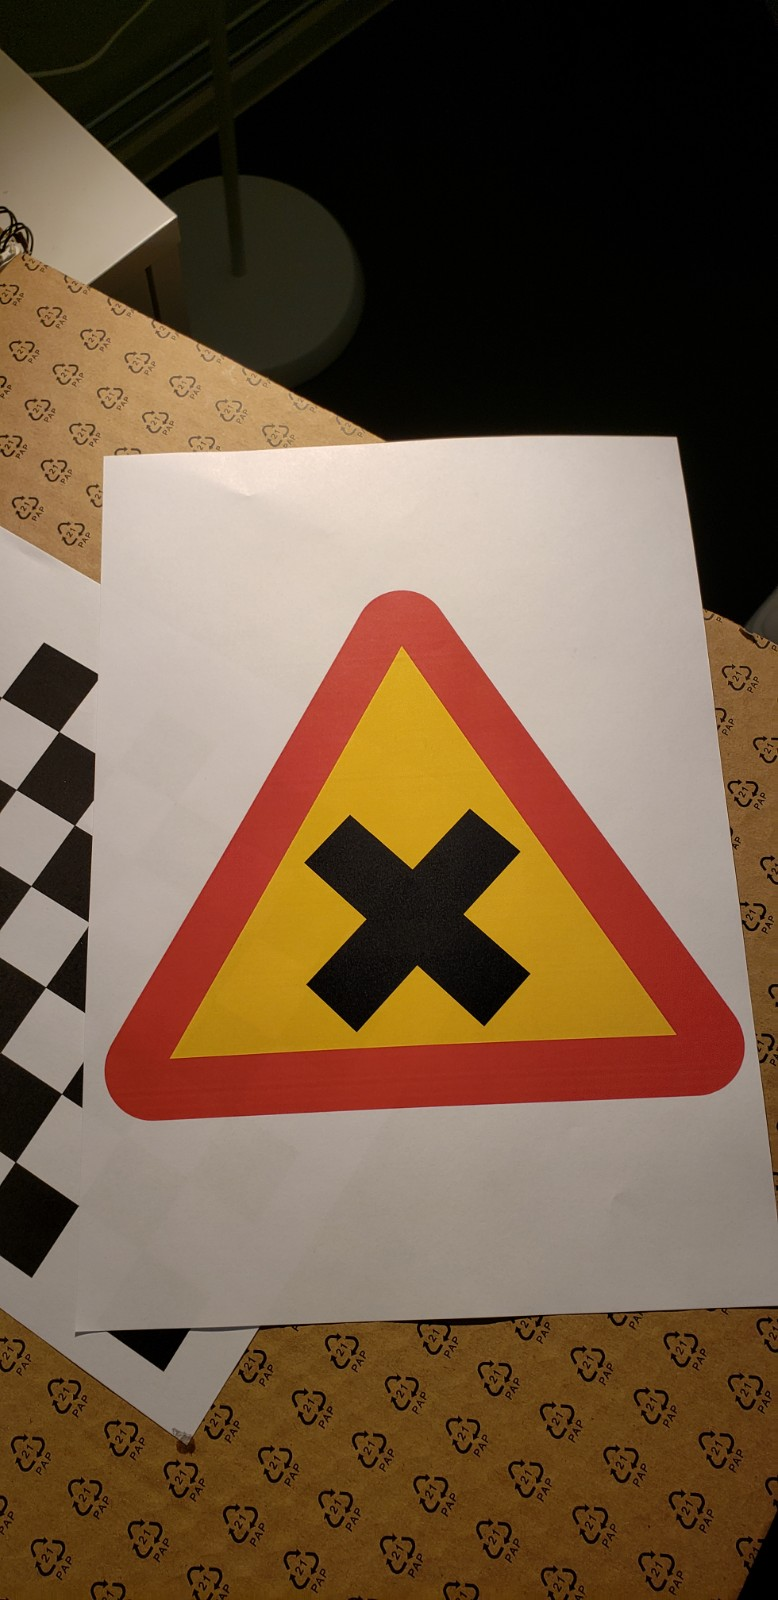junction: (79, 502, 773, 1179)
